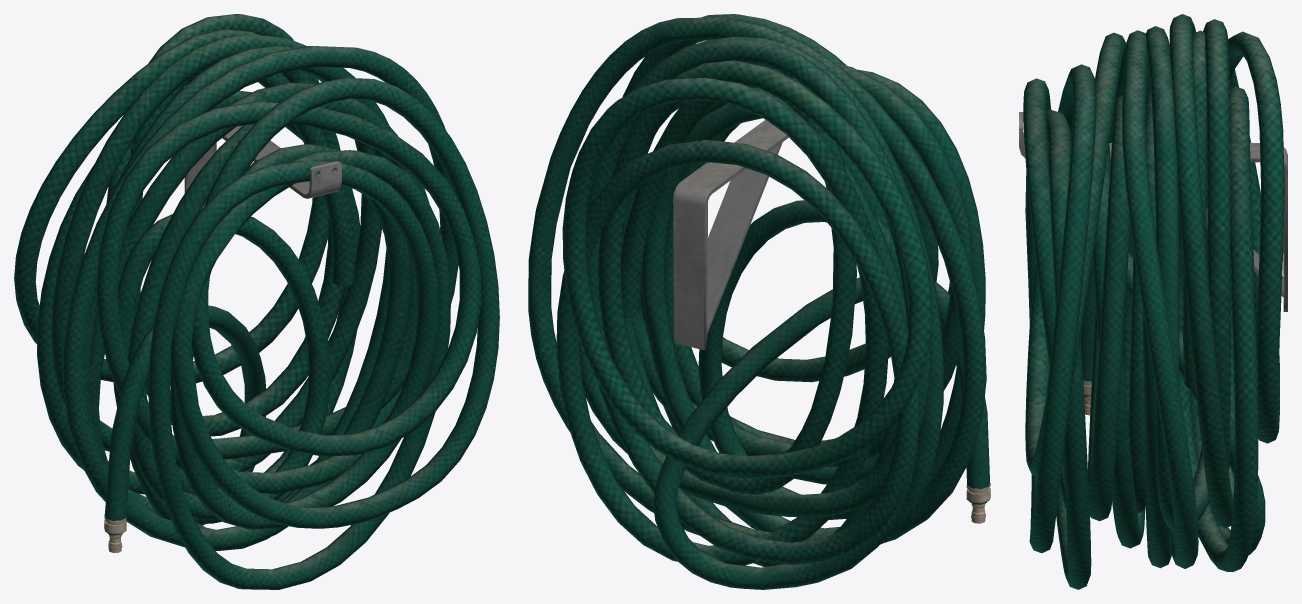
Rendered from garden_hose.glb.
3 renders of one model, left to right at view 1: azimuth 30°, elevation 25°; view 2: azimuth 150°, elevation 25°; view 3: azimuth 270°, elevation 25°, orthographic. The views are drawn at different scales.
Parts seen in each view (by area): view 1: garden_hose_wall_bracket; view 2: garden_hose_wall_bracket; view 3: garden_hose_wall_bracket.
Boxes of the visible parts, box(x1,y1,x2,y2) form: garden_hose_wall_bracket: box(14, 14, 499, 589); garden_hose_wall_bracket: box(528, 14, 990, 589); garden_hose_wall_bracket: box(1019, 14, 1287, 589).
Size of the model in its own units: 0.4667 by 0.557 by 0.2503.
1 material, 1 textured.
